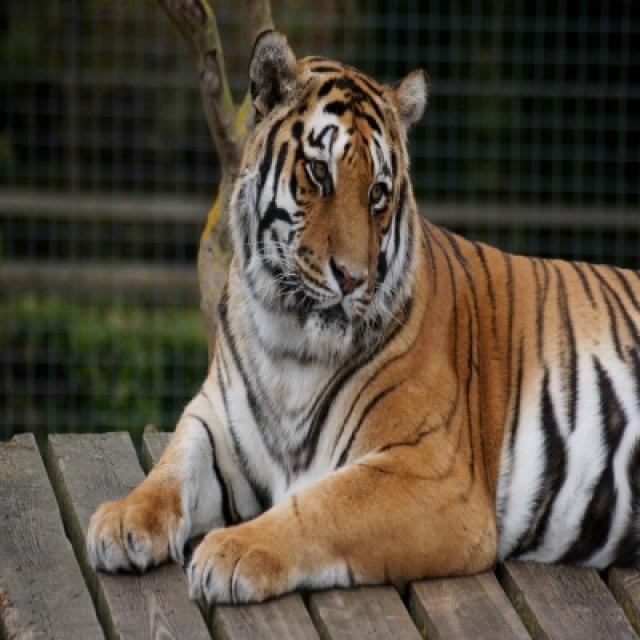Tiger: (85, 26, 638, 606)
